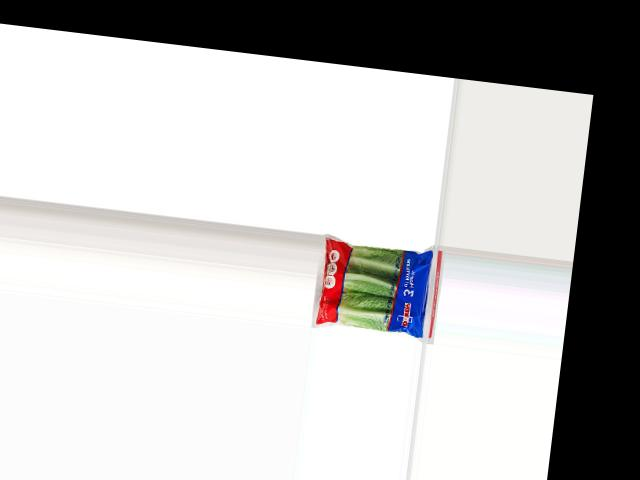lettuce: (310, 235, 436, 339)
